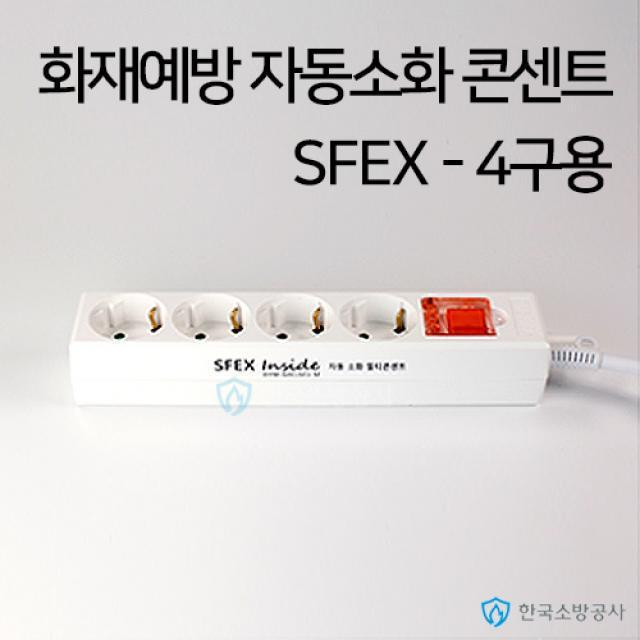typeb: (80, 273, 423, 420)
